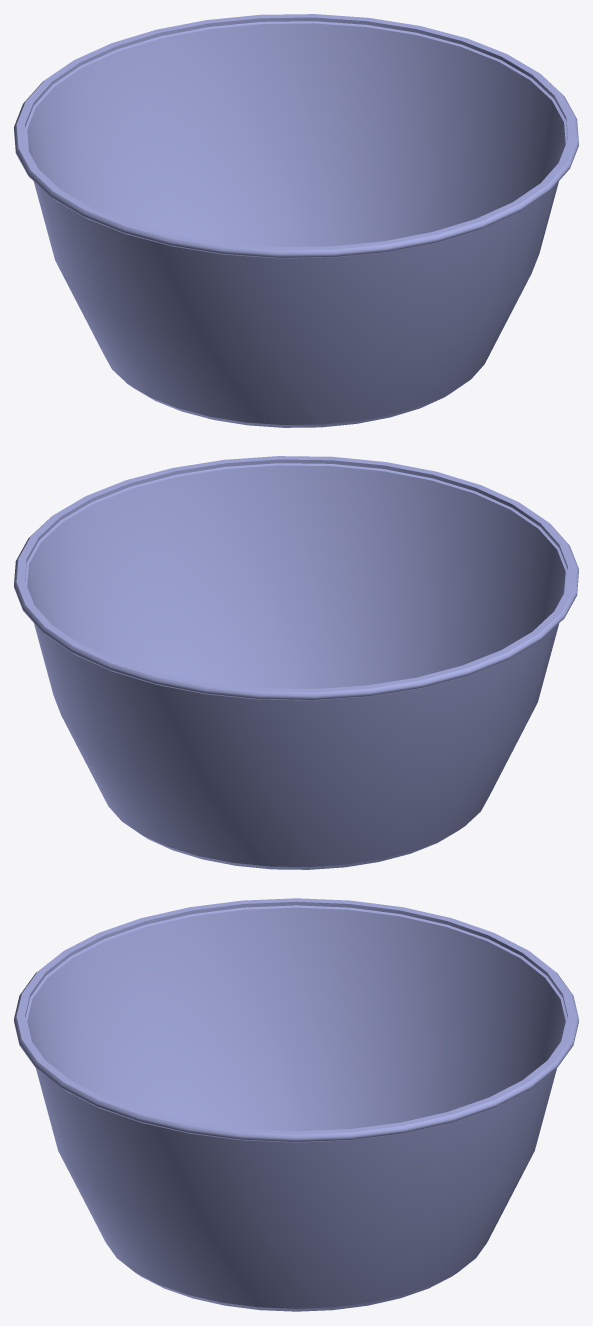
File: Bucket.fbx
3 views of the same model, one above another, from view 1: azimuth 30°, elevation 25°; view 2: azimuth 150°, elevation 25°; view 3: azimuth 270°, elevation 25° (orthographic).
Visible parts, largest first — view 1: Circle; view 2: Circle; view 3: Circle.
Part boxes in pixels (bbox=[...]): Circle: bbox=[14, 14, 578, 427]; Circle: bbox=[14, 456, 578, 869]; Circle: bbox=[14, 898, 578, 1311].
Size of the model in its own units: 4601 by 1941 by 4601.
